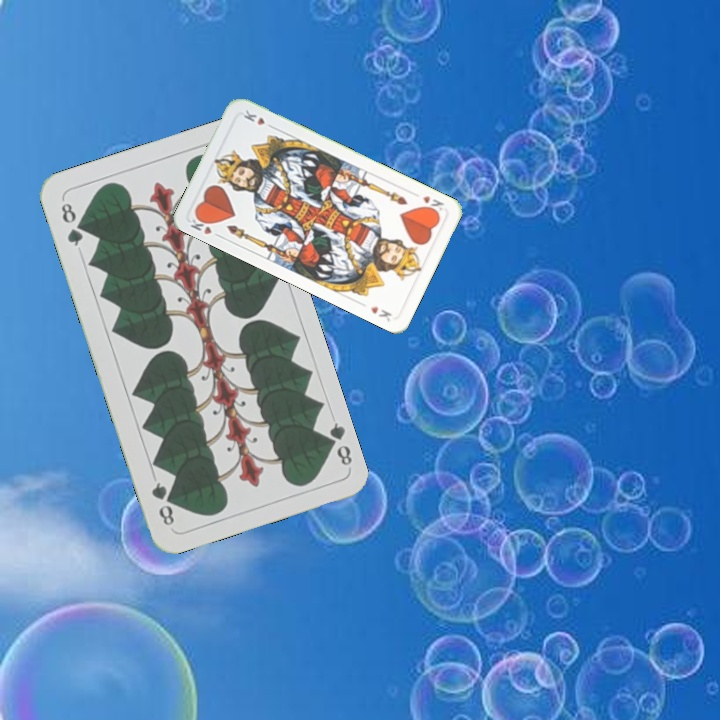G8: (319, 418, 355, 468), (57, 198, 86, 249)
HK: (186, 211, 224, 240), (418, 192, 446, 216)
